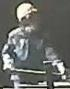helmet: (16, 2, 38, 22)
vest: (8, 28, 51, 87)
